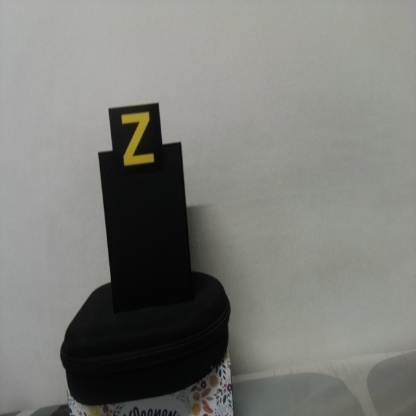id_15: (110, 108, 162, 175)
